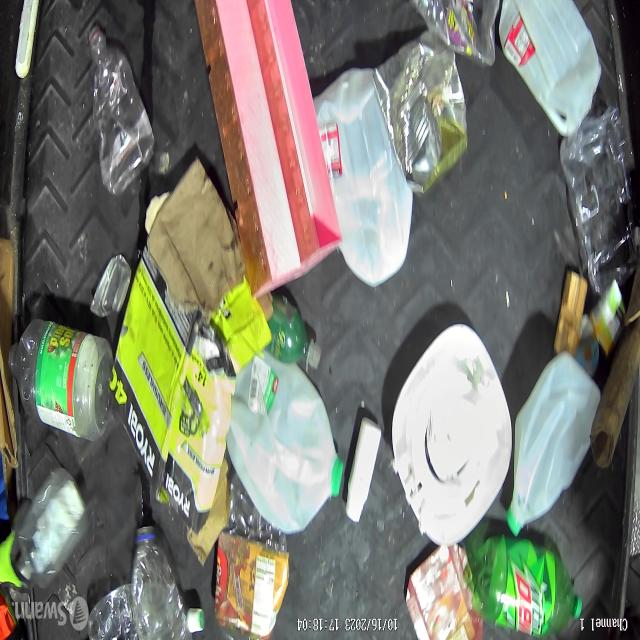can: (209, 529, 295, 640)
milk_jug: (313, 67, 414, 286), (224, 350, 347, 527), (508, 352, 598, 538), (498, 0, 603, 135)
plastic_bottle: (463, 523, 583, 640), (82, 15, 154, 191), (130, 524, 187, 640)
